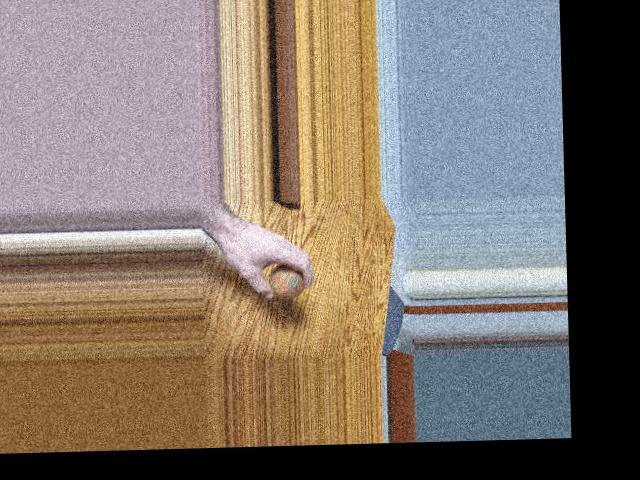onion: (267, 265, 306, 300)
